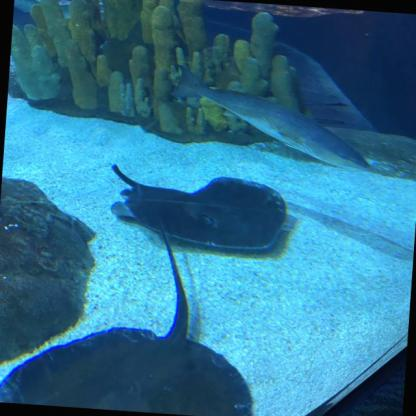fish: (160, 61, 382, 174)
stingray: (0, 318, 258, 416), (117, 168, 289, 253)
